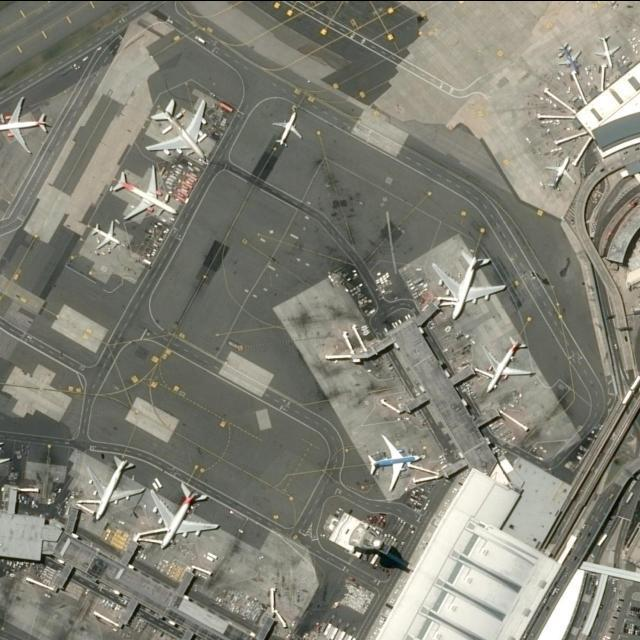Aircraft: (432, 248, 511, 320), (149, 479, 223, 554), (146, 95, 216, 165), (84, 453, 150, 523), (111, 165, 181, 225), (367, 434, 427, 494), (480, 335, 537, 395), (0, 94, 50, 162), (91, 218, 129, 256), (272, 111, 307, 149), (545, 155, 581, 189), (558, 42, 587, 76), (598, 35, 622, 71), (0, 438, 16, 487)
